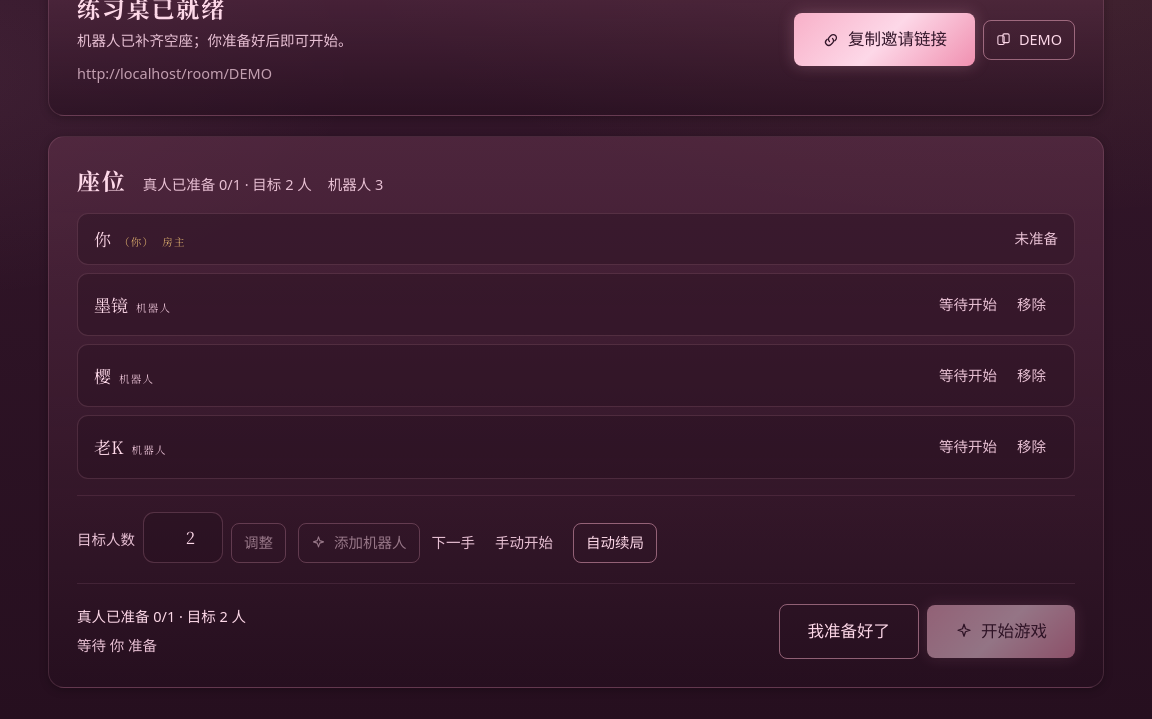
Test: RoomPage 装配 › 牌池抽屉：准备后进入牌桌，开合自如，盒名单 13 张
(page scrolled)
Expected: the list with test id "waiting-seats" is shown, x1=77 y1=213 x2=1075 y2=479
Click the button "我准备好了": (849, 631) x1=778 y1=604 x2=919 y2=659
(page scrolled)
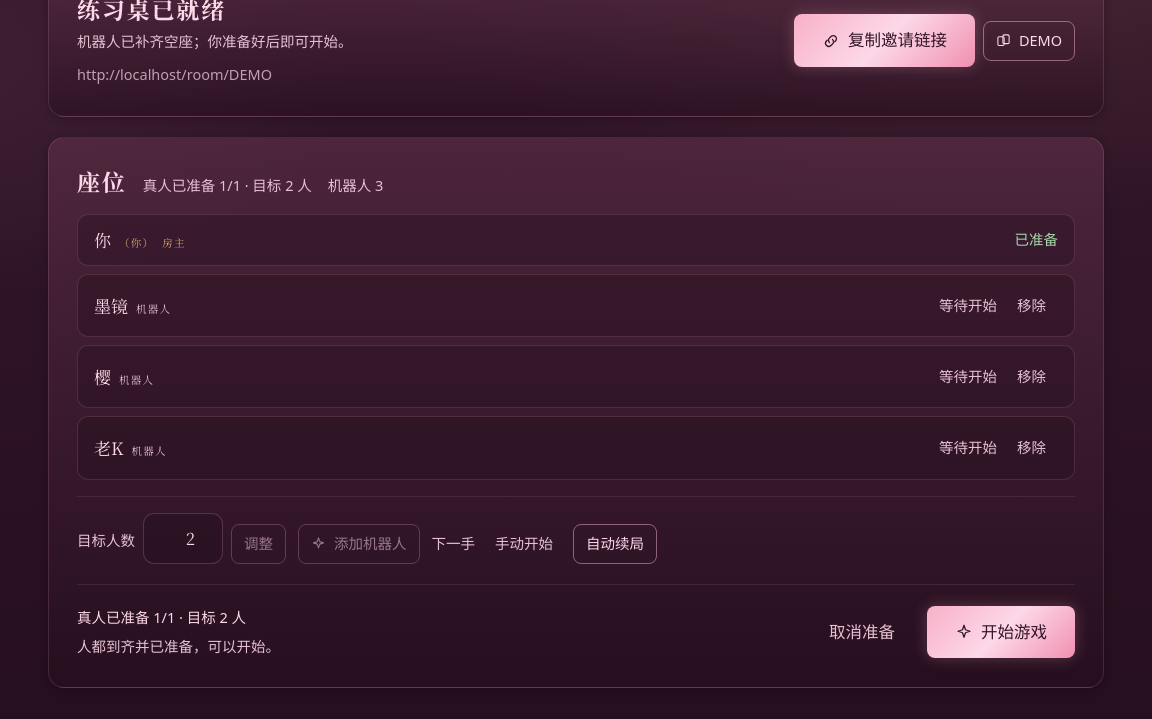
Result: the button "开始游戏" is enabled
Click the button "开始游戏": (1001, 632) x1=927 y1=606 x2=1075 y2=658
(page scrolled)
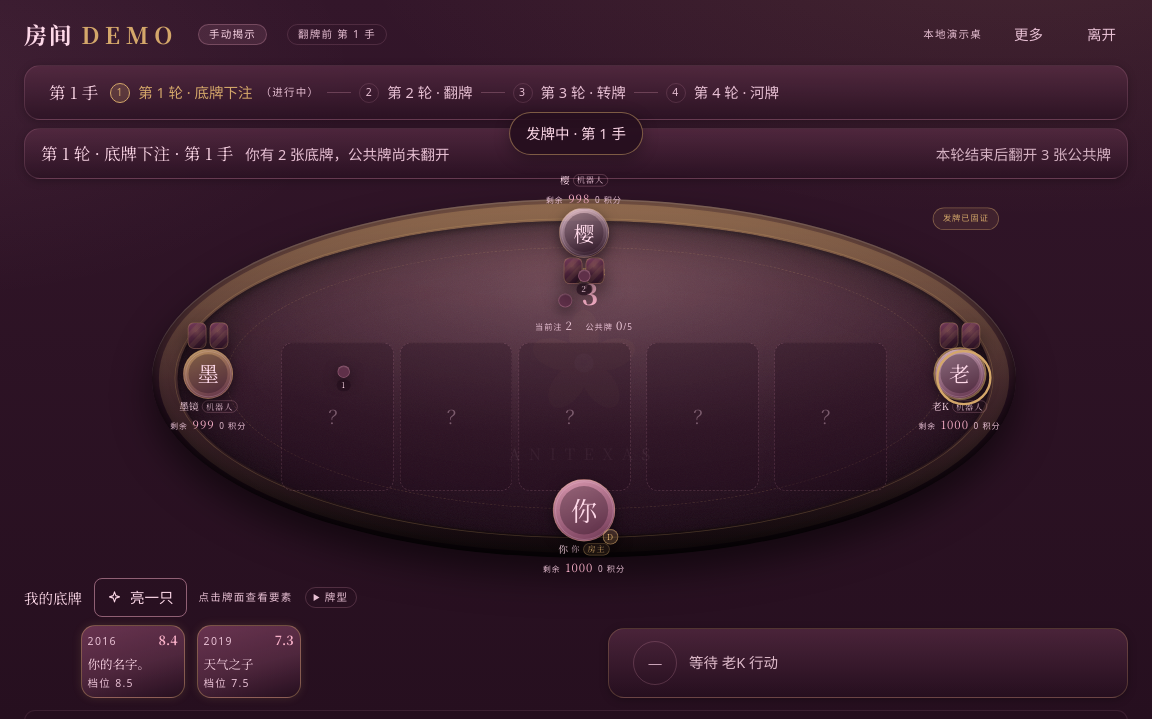
Result: the element with test id "action-bar" is shown at x1=608 y1=628 x2=1128 y2=698
Click the button "更多": (1028, 35) x1=1002 y1=16 x2=1055 y2=53
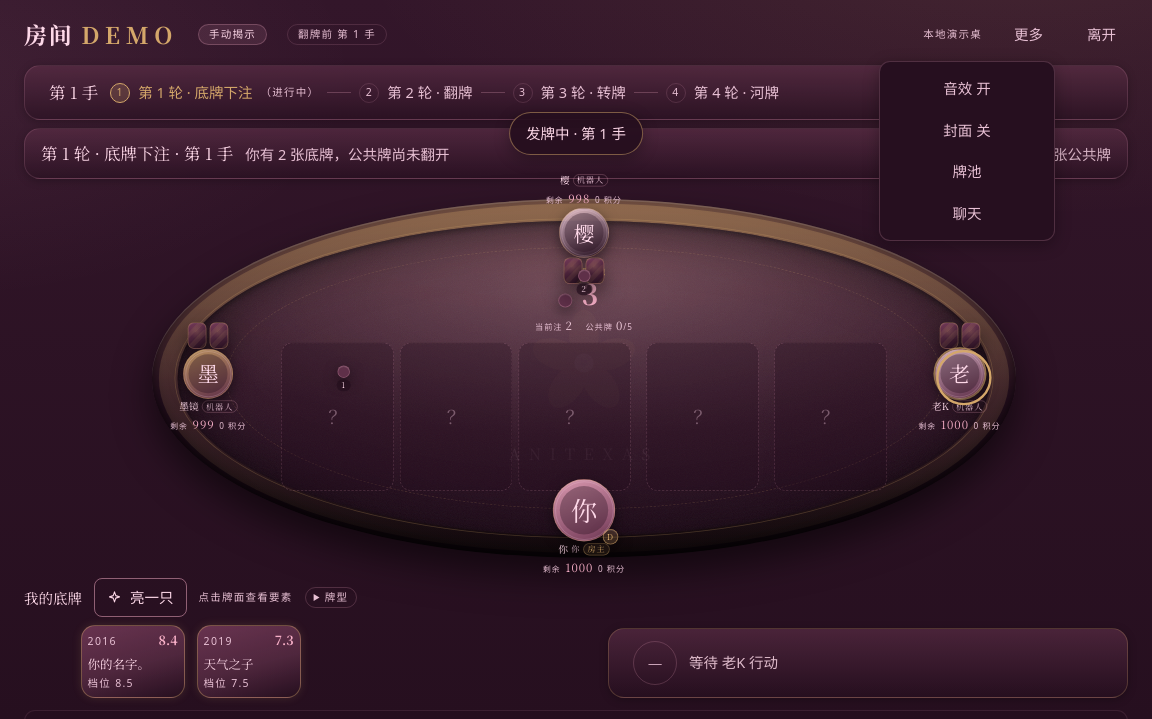
Click the button "牌池": (967, 172) x1=888 y1=153 x2=1046 y2=190
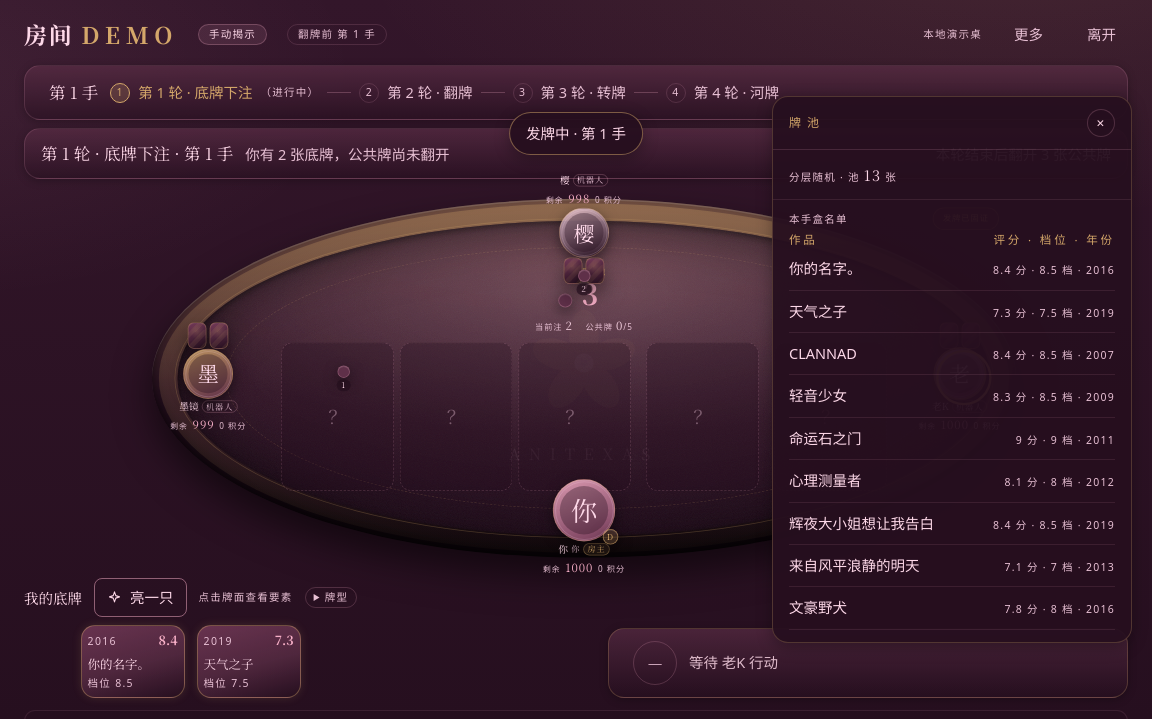
Click the button named "关闭牌池": (1101, 123) x1=1087 y1=109 x2=1115 y2=137
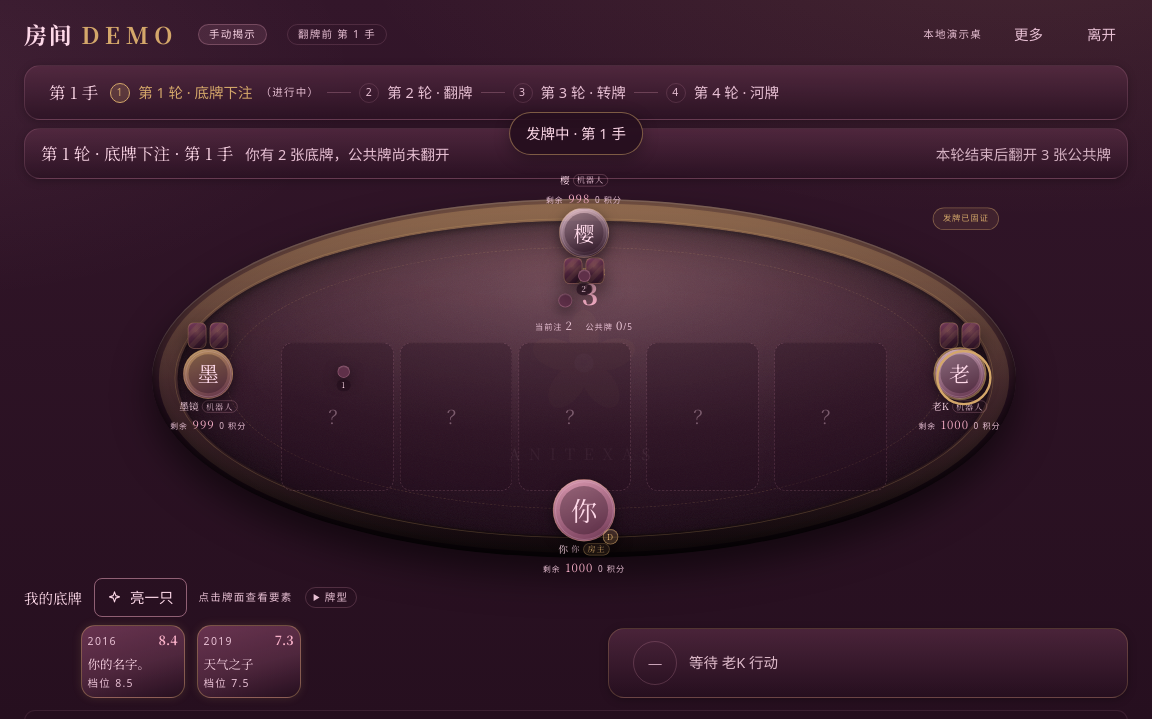
Result: the element with test id "box-dock" is gone
